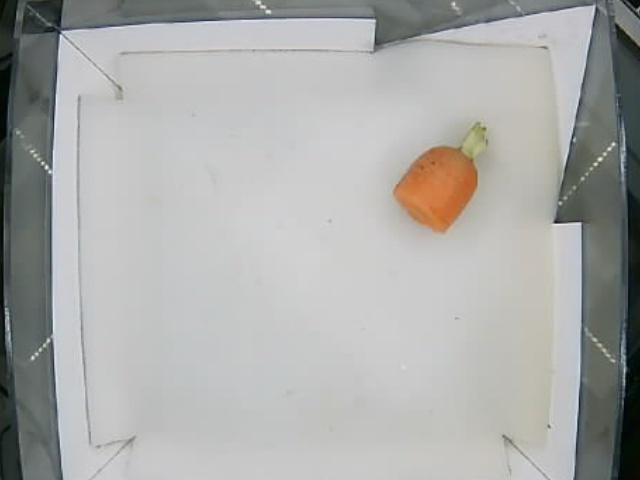Carrot: (395, 118, 488, 233)
